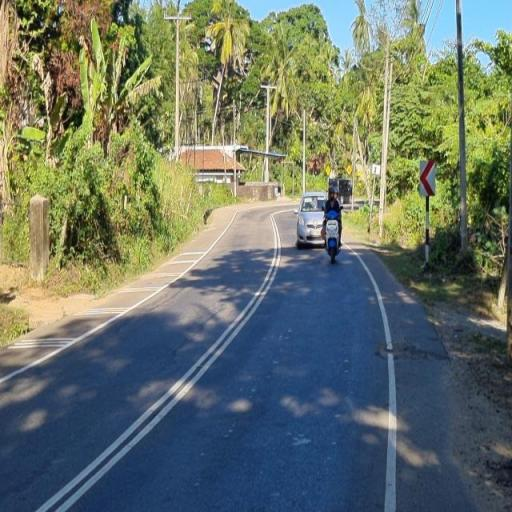double_white_line: (33, 208, 286, 510)
